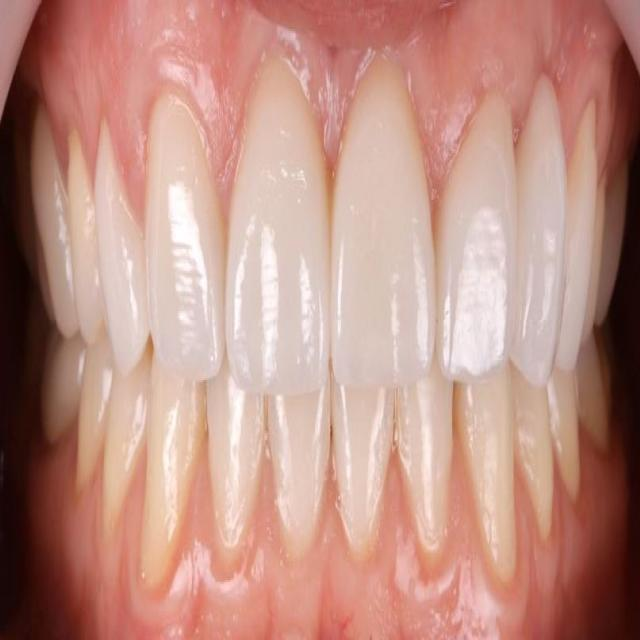1st Molar: (596, 158, 628, 329), (43, 335, 86, 447), (10, 129, 35, 280), (578, 345, 612, 456)
1st Premolar: (558, 102, 599, 367), (102, 358, 150, 529), (67, 135, 102, 345), (515, 373, 555, 544)
2nd Molar: (22, 295, 48, 387)
2nd Premolar: (31, 98, 75, 335), (76, 331, 117, 496), (548, 375, 581, 511), (584, 187, 602, 336)
Canine: (511, 75, 567, 389), (140, 360, 205, 598), (454, 369, 517, 593), (95, 122, 149, 373)
Central Incisor: (225, 58, 334, 396), (332, 55, 437, 389), (266, 391, 331, 564), (332, 387, 395, 562)
Lateral Incisor: (144, 87, 228, 382), (436, 95, 517, 382), (206, 376, 266, 556), (396, 376, 454, 562)
